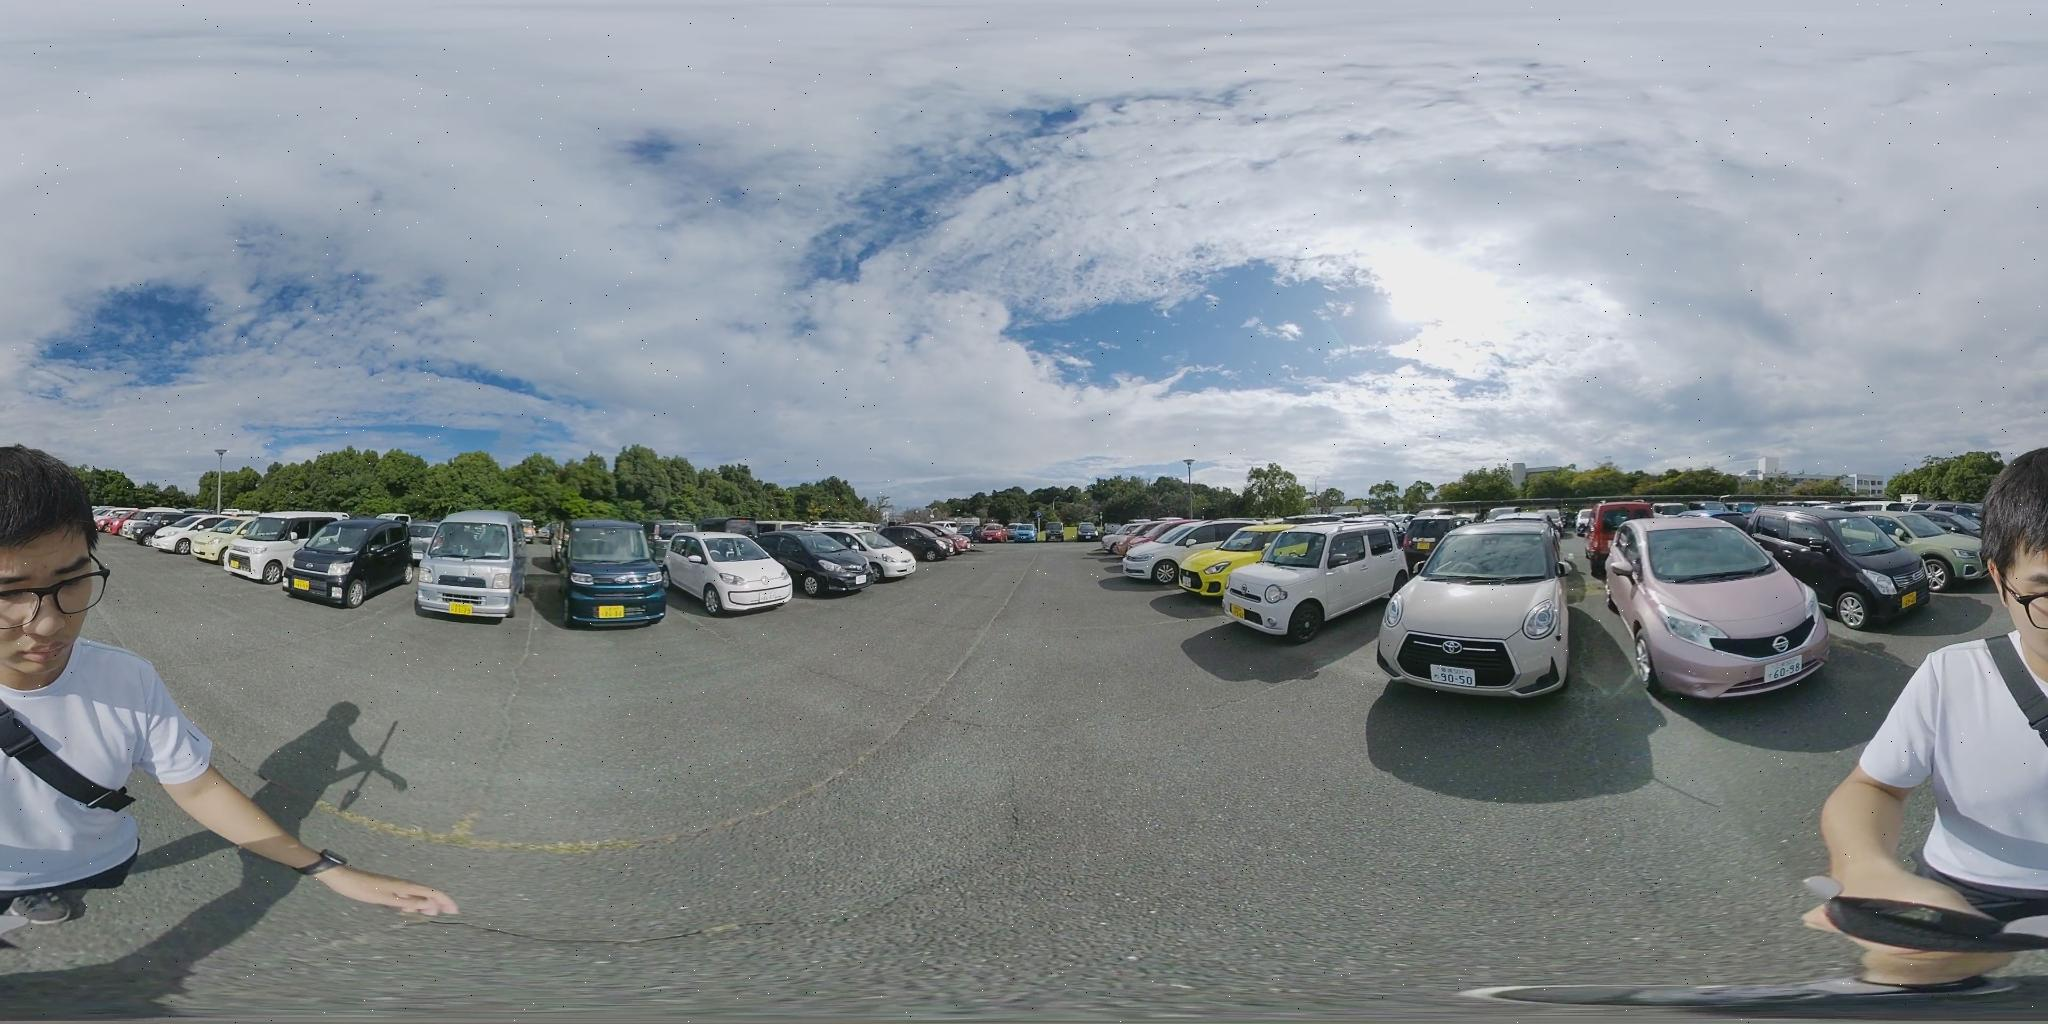car: (1604, 512, 1840, 697), (1374, 519, 1586, 697), (1211, 517, 1429, 640), (1746, 513, 1941, 631), (282, 519, 418, 610), (654, 533, 795, 616), (419, 511, 525, 615), (1846, 511, 1993, 585), (566, 521, 662, 627), (1117, 522, 1266, 586), (761, 528, 903, 590), (216, 515, 338, 580), (150, 513, 230, 556), (1898, 500, 1984, 534), (185, 517, 246, 563), (892, 525, 970, 559), (131, 513, 200, 551)
